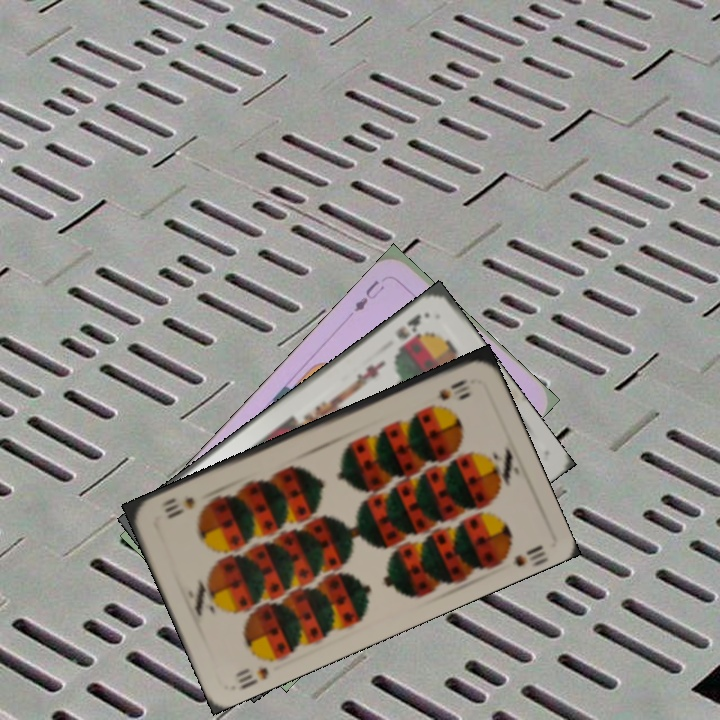EU: (349, 275, 388, 315)
S10: (231, 663, 271, 692), (432, 374, 473, 402)
SK: (392, 310, 424, 353)
